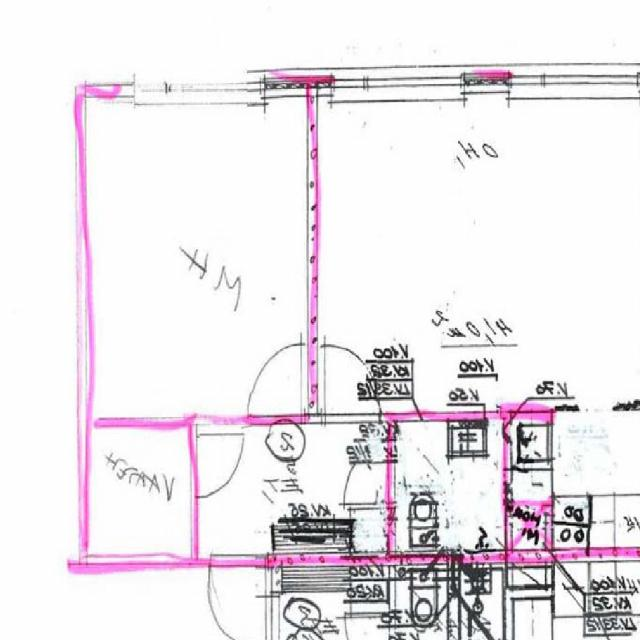door: (210, 549, 266, 636), (325, 344, 378, 424), (249, 344, 301, 424), (340, 438, 396, 502), (191, 435, 246, 498)
